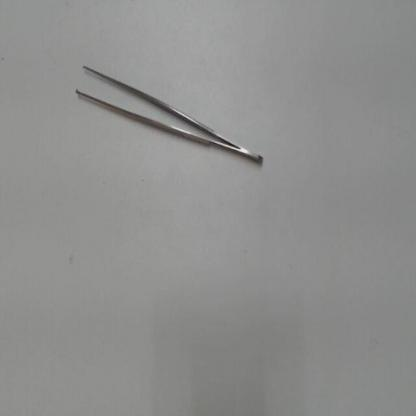Gillies Toothed Dissector: (75, 53, 266, 171)
